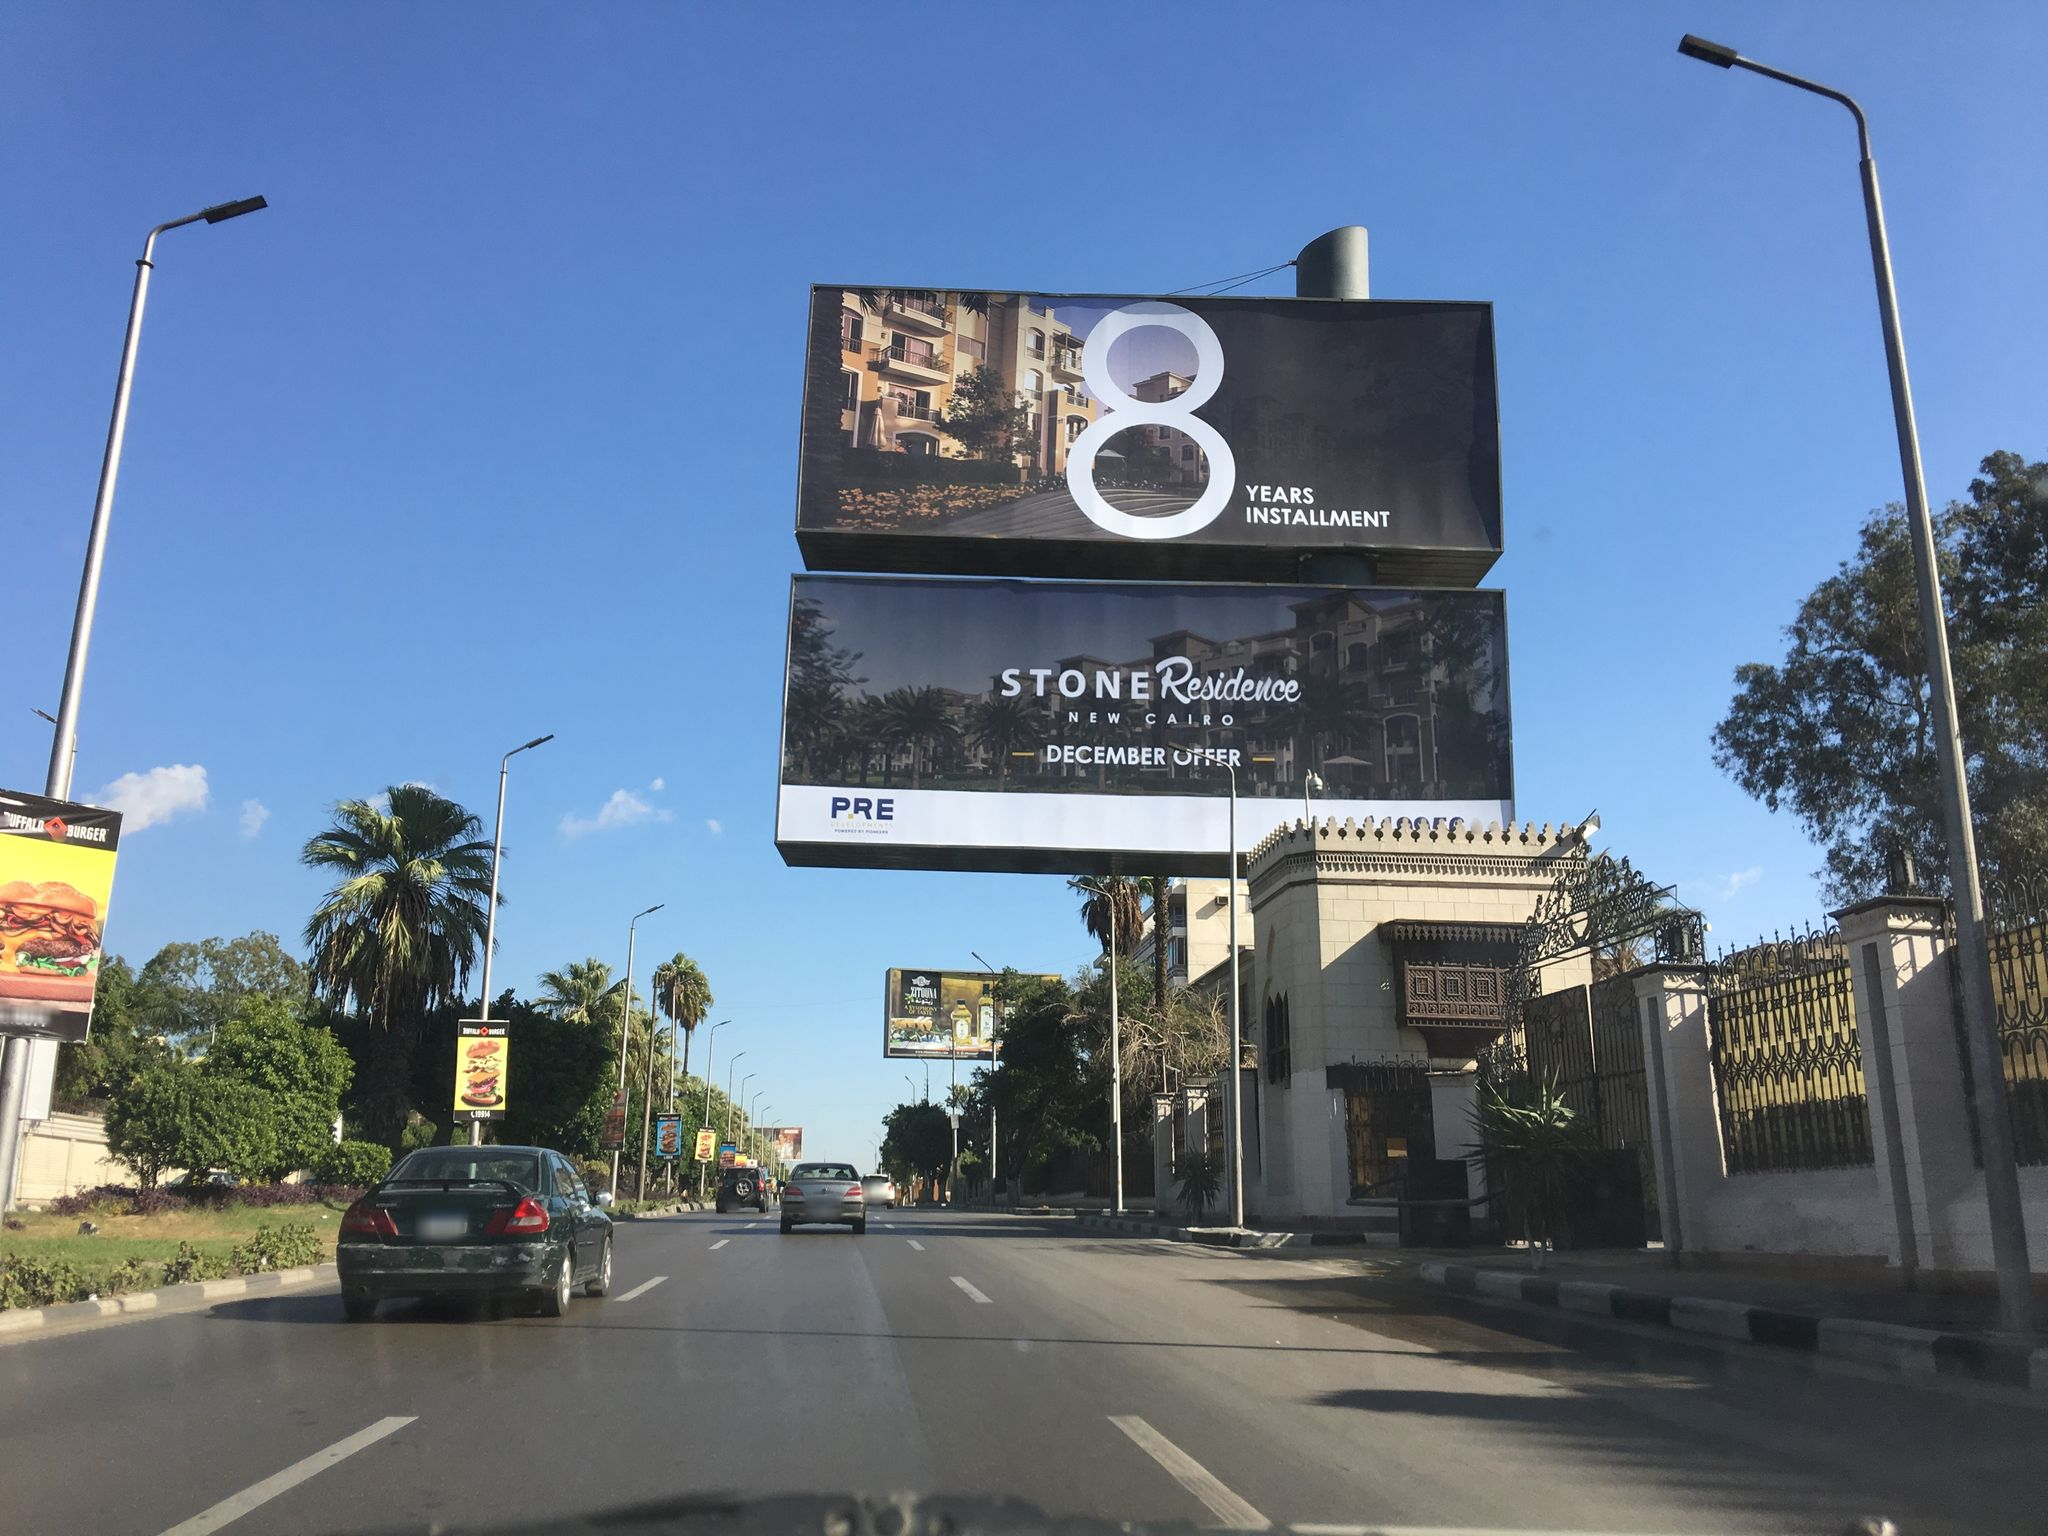car: (331, 1144, 618, 1315), (776, 1162, 868, 1233), (714, 1165, 769, 1213), (860, 1173, 895, 1208)
